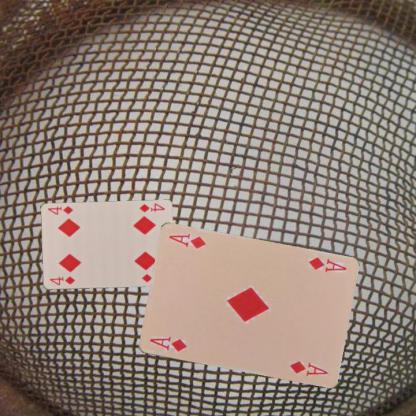4d: (136, 201, 166, 214), (46, 274, 76, 286)
Ad: (147, 333, 188, 353), (306, 254, 347, 274)
